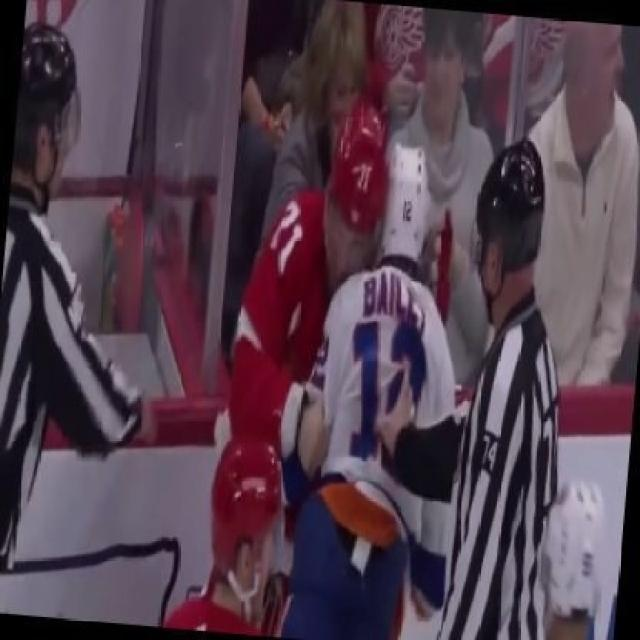fight: (191, 81, 463, 640)
non-fight: (367, 128, 568, 640), (0, 0, 151, 592)
